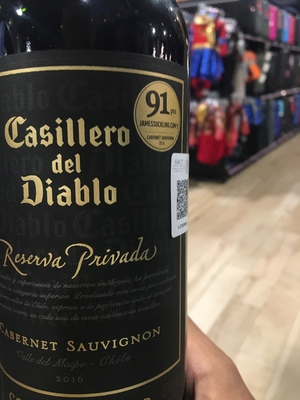casillero del diablo reserva privada cabernet sauvignon: (2, 12, 207, 400)
